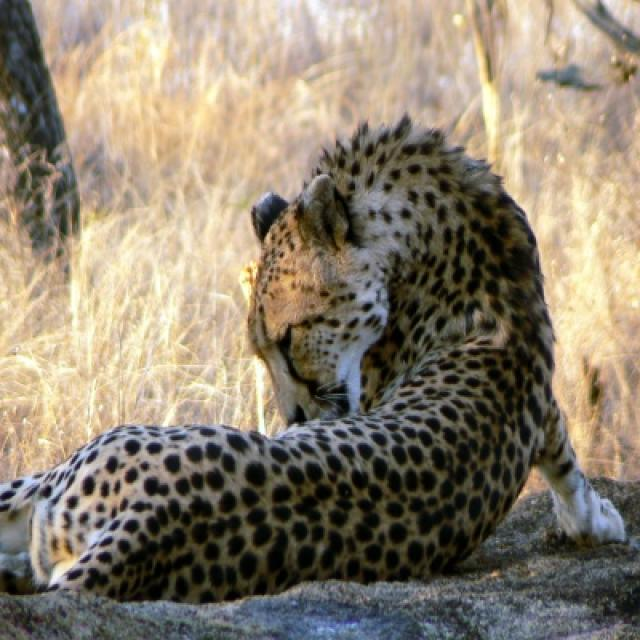Cheetah: (0, 118, 626, 608)
